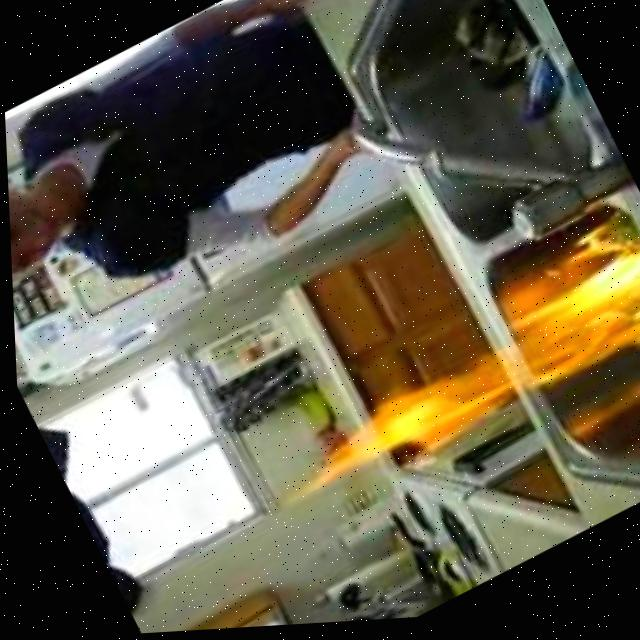Fire: (234, 218, 640, 534), (236, 218, 640, 533)
